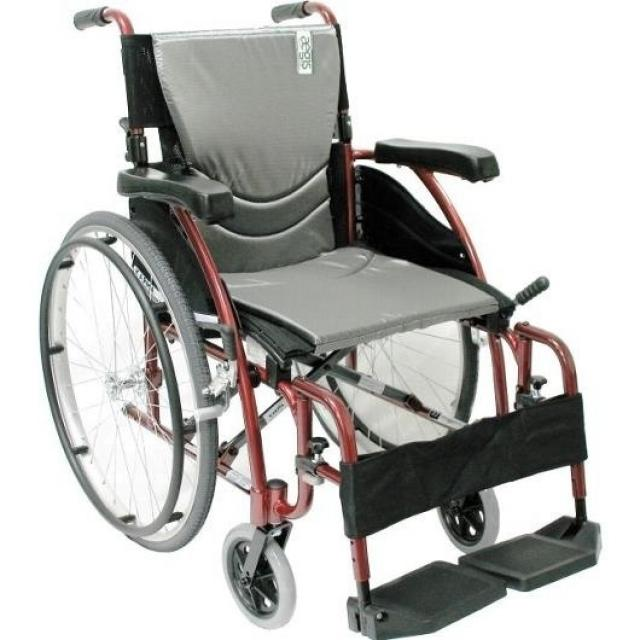wheelchair: (32, 0, 620, 640)
